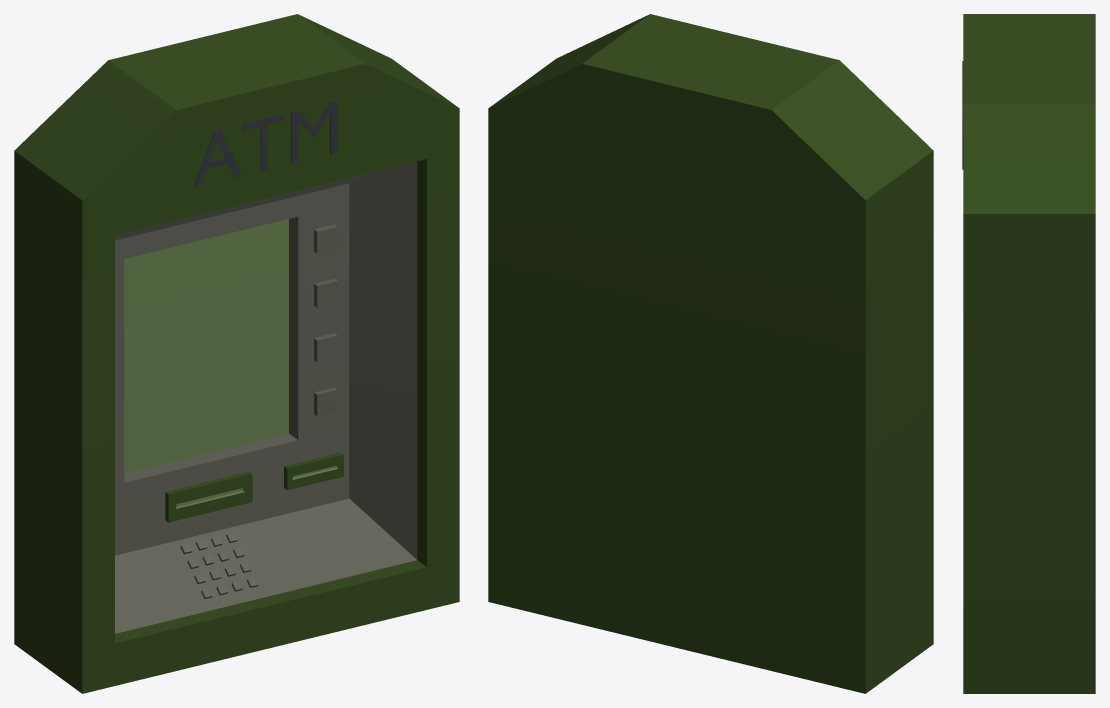
Rendered from ATM_01.fbx.
3 renders of one model, left to right at view 1: azimuth 30°, elevation 25°; view 2: azimuth 150°, elevation 25°; view 3: azimuth 270°, elevation 25°, orthographic. The views are drawn at different scales.
Visible parts, largest first — view 1: ATM_01; view 2: ATM_01; view 3: ATM_01.
Part boxes in pixels (x1=…): ATM_01: x1=14, y1=14, x2=459, y2=693; ATM_01: x1=488, y1=14, x2=933, y2=693; ATM_01: x1=962, y1=14, x2=1095, y2=693.
Bounding box in the file's own units: 0.6142 × 0.8728 × 0.1933.
